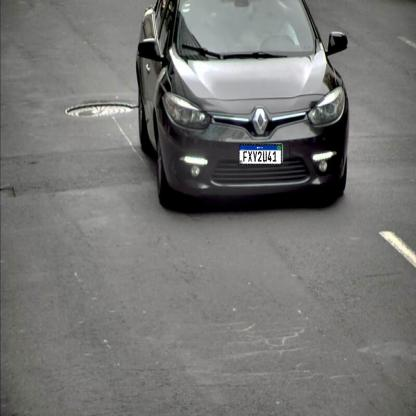PlacaM: (239, 144, 282, 165)
